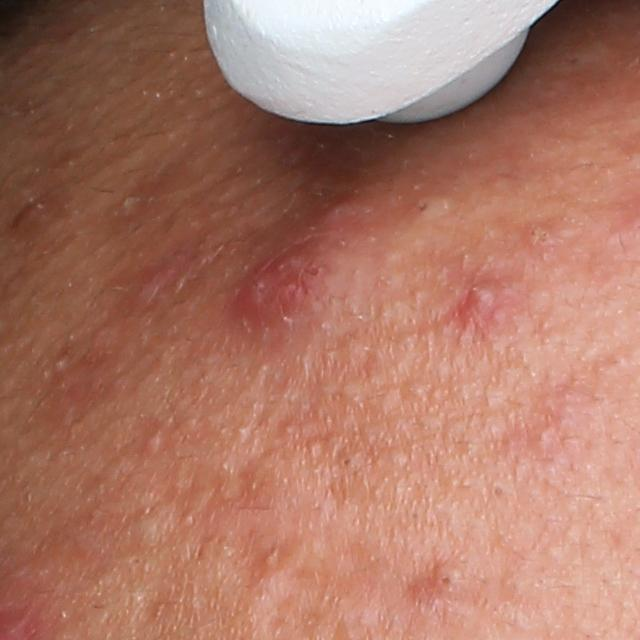comedo: (132, 507, 183, 551), (525, 421, 561, 456), (428, 563, 462, 593), (336, 448, 361, 474), (489, 480, 511, 506), (412, 195, 437, 217)
papule: (238, 245, 325, 339), (450, 264, 511, 325), (315, 186, 381, 235)
